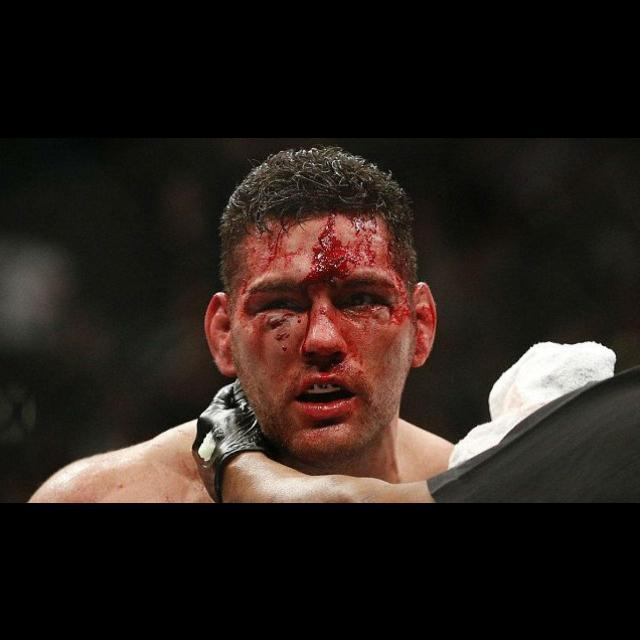blood: (232, 213, 437, 437)
